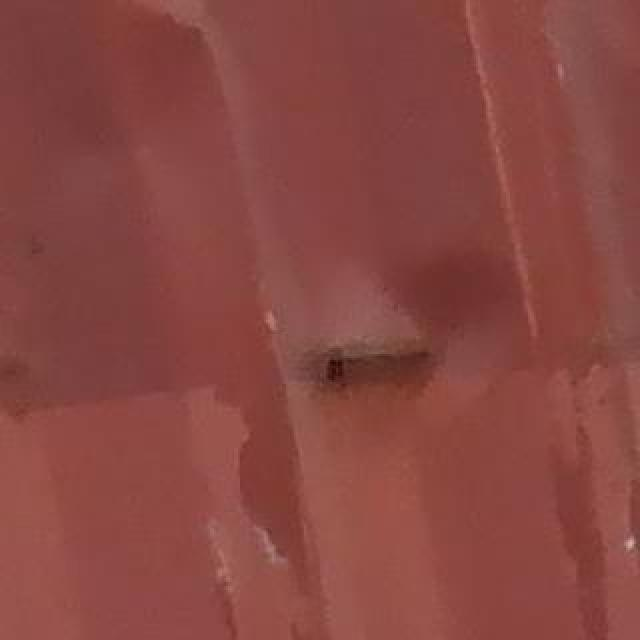dent: (251, 233, 559, 457)
